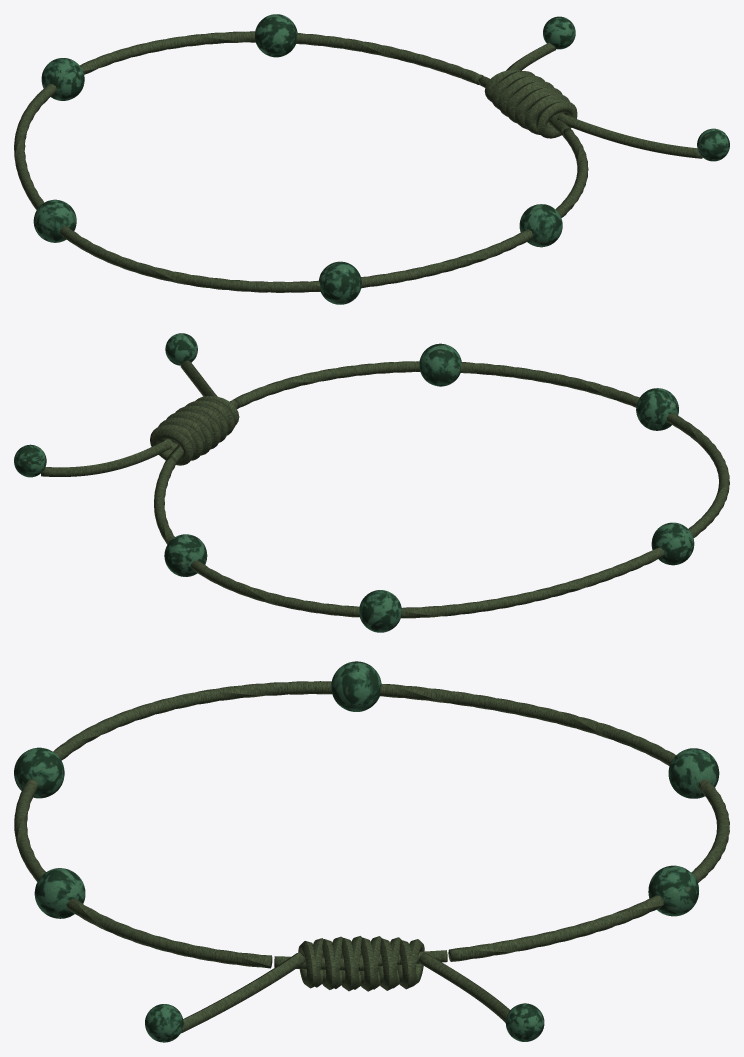
File: mech.glb
3 views of the same model, one above another, from view 1: azimuth 30°, elevation 25°; view 2: azimuth 150°, elevation 25°; view 3: azimuth 270°, elevation 25° (orthographic). The views are drawn at different scales.
Visible parts, largest first — view 1: nic.025, koncowka.051, bead_round_0.001, bead_round_0, bead_round_1.001, bead_round_1, bead_round_2, bead_round_0.003, bead_round_0.002, wezel.300, wezel.301, koncowka.050 (+1 smaller); view 2: nic.025, bead_round_1, bead_round_1.001, bead_round_0.001, bead_round_2, koncowka.050, bead_round_0, bead_round_0.002, bead_round_0.003, wezel.311, koncowka.051; view 3: nic.025, bead_round_2, bead_round_0, bead_round_1.001, bead_round_1, bead_round_0.001, koncowka.051, koncowka.050, bead_round_0.002, bead_round_0.003, wezel.308, wezel.306 (+4 smaller).
Part boxes in pixels (x1,y1,x2,y2): nic.025: [14, 31, 588, 292]; koncowka.051: [557, 112, 702, 158]; bead_round_0.001: [319, 261, 361, 304]; bead_round_0: [255, 14, 297, 57]; bead_round_1.001: [519, 204, 562, 247]; bead_round_1: [41, 58, 84, 100]; bead_round_2: [33, 199, 76, 242]; bead_round_0.003: [697, 128, 729, 161]; bead_round_0.002: [543, 16, 575, 49]; wezel.300: [536, 101, 577, 138]; wezel.301: [524, 99, 570, 134]; koncowka.050: [506, 43, 555, 70]; nic.025: [154, 361, 729, 618]; bead_round_1: [359, 590, 401, 632]; bead_round_1.001: [419, 343, 461, 386]; bead_round_0.001: [636, 388, 678, 430]; bead_round_2: [651, 522, 694, 565]; koncowka.050: [41, 439, 171, 476]; bead_round_0: [164, 534, 207, 576]; bead_round_0.002: [14, 444, 46, 477]; bead_round_0.003: [165, 333, 197, 365]; wezel.311: [153, 428, 194, 465]; koncowka.051: [180, 360, 217, 396]; nic.025: [14, 681, 729, 968]; bead_round_2: [331, 661, 381, 711]; bead_round_0: [648, 865, 698, 916]; bead_round_1.001: [34, 868, 85, 918]; bead_round_1: [668, 748, 719, 798]; bead_round_0.001: [14, 747, 64, 798]; koncowka.051: [180, 952, 305, 1033]; koncowka.050: [418, 952, 509, 1022]; bead_round_0.002: [505, 1003, 544, 1041]; bead_round_0.003: [145, 1004, 183, 1042]; wezel.308: [378, 938, 395, 990]; wezel.306: [360, 937, 376, 991].
Bounding box in the file's own units: 6.85 × 0.43 × 5.93.
Materials: 3 (3 with a texture image).
